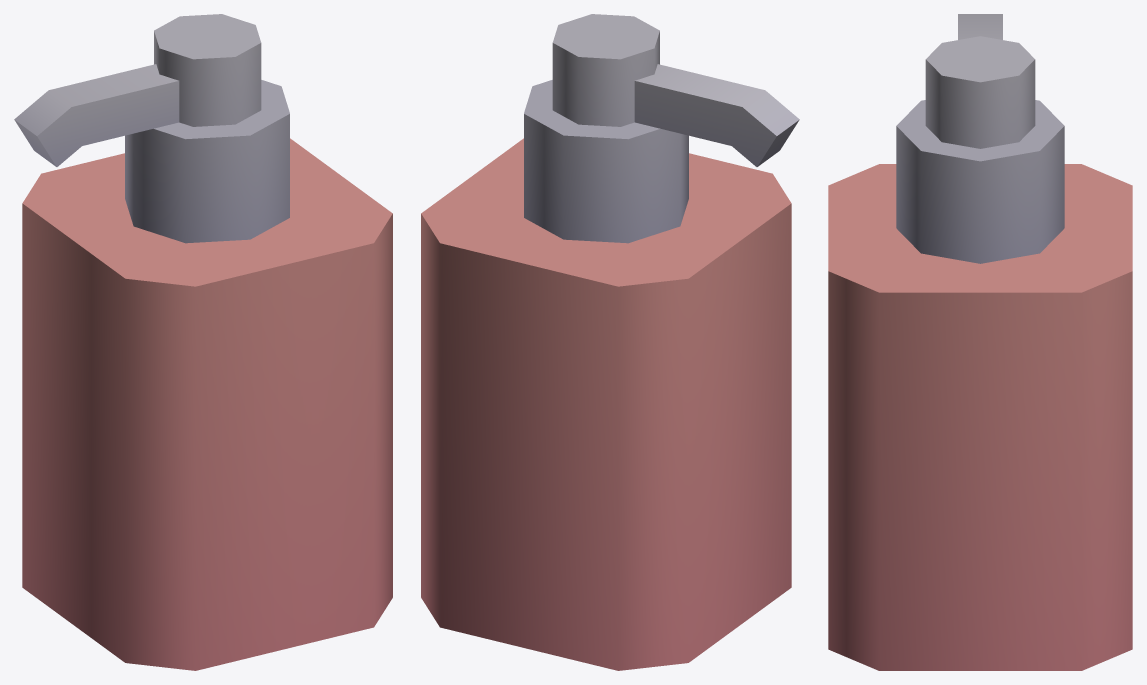
The model's file is soap-pump-square.glb.
3 renders of one model, left to right at view 1: azimuth 30°, elevation 25°; view 2: azimuth 150°, elevation 25°; view 3: azimuth 270°, elevation 25°, orthographic.
Parts seen in each view (by area): view 1: soap-pump-square; view 2: soap-pump-square; view 3: soap-pump-square.
Part boxes in pixels (x1,y1,x2,y2): soap-pump-square: (14, 14, 392, 670); soap-pump-square: (421, 14, 799, 670); soap-pump-square: (828, 14, 1132, 670).
Bounding box in the file's own units: 0.1587 × 0.2671 × 0.1345.
